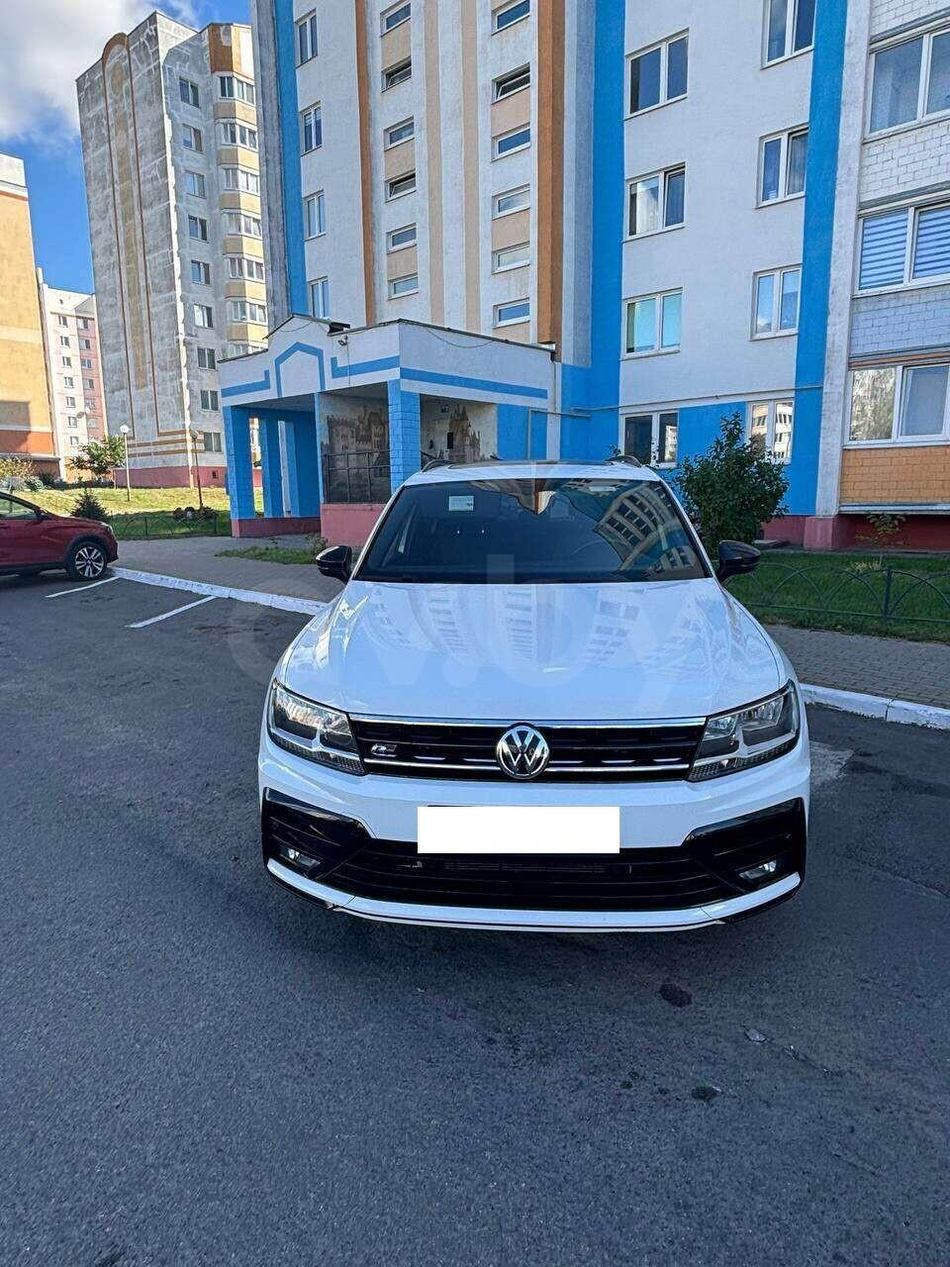Tiguan_2016-2021: (251, 464, 820, 947)
